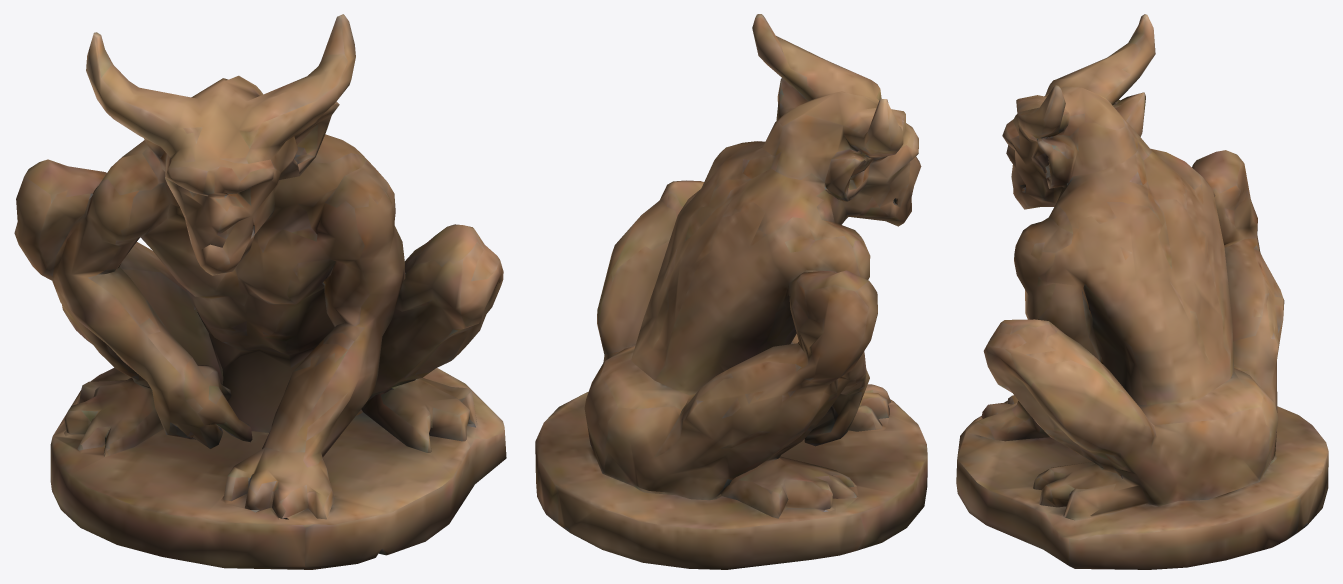
File: sturdy-sandstone-gargoyle-v001.glb
3 views of the same model, side by side, from view 1: azimuth 30°, elevation 25°; view 2: azimuth 150°, elevation 25°; view 3: azimuth 270°, elevation 25° (orthographic). The views are drawn at different scales.
Parts seen in each view (by area): view 1: sturdy-sandstone-gargoyle; view 2: sturdy-sandstone-gargoyle; view 3: sturdy-sandstone-gargoyle.
Part boxes in pixels (left/top/right/bottom): sturdy-sandstone-gargoyle: left=14, top=14, right=506, bottom=569; sturdy-sandstone-gargoyle: left=535, top=14, right=927, bottom=569; sturdy-sandstone-gargoyle: left=956, top=14, right=1328, bottom=569.
Size of the model in its own units: 0.7045 by 0.8386 by 0.6776.
Materials: 1 (1 with a texture image).
